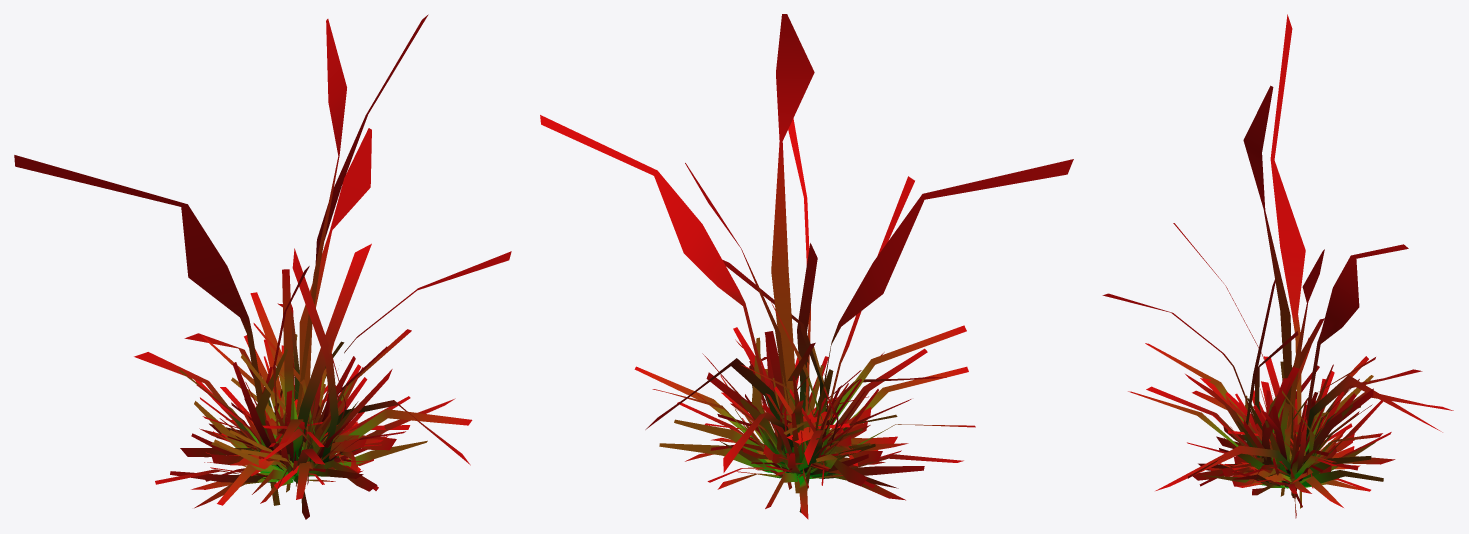
File: Var1_LOD1.fbx
The picture shows the model from 3 angles, left to right: view 1: azimuth 30°, elevation 25°; view 2: azimuth 150°, elevation 25°; view 3: azimuth 270°, elevation 25°; orthographic projection. The views are drawn at different scales.
Visible parts, largest first — view 1: _2027_Var1_LOD1; view 2: _2027_Var1_LOD1; view 3: _2027_Var1_LOD1.
Boxes of the visible parts, box(x1,y1,x2,y2) form: _2027_Var1_LOD1: box(14, 14, 511, 519); _2027_Var1_LOD1: box(540, 14, 1073, 519); _2027_Var1_LOD1: box(1102, 14, 1453, 518).
Size of the model in its own units: 85.68 by 83.59 by 61.15.
